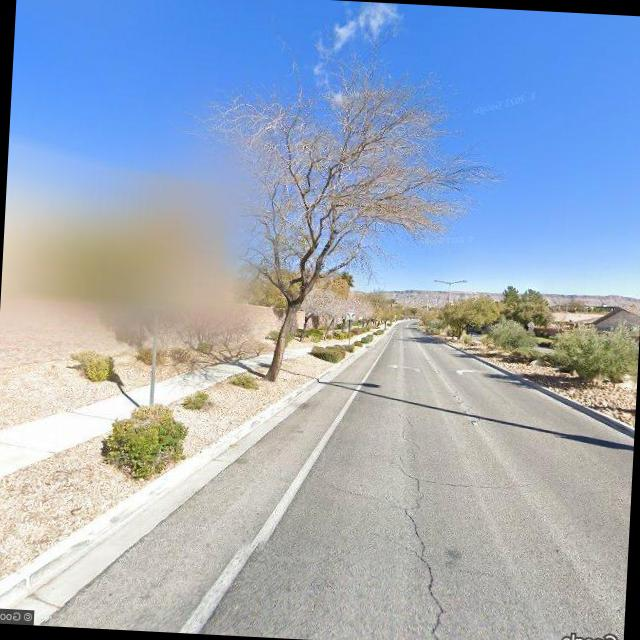crack: (382, 407, 461, 640), (422, 470, 535, 496)
